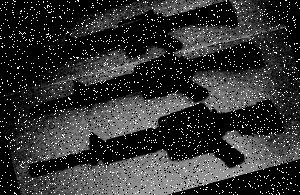knife: (12, 77, 300, 195)
rifle: (7, 22, 294, 147), (0, 0, 263, 93)
